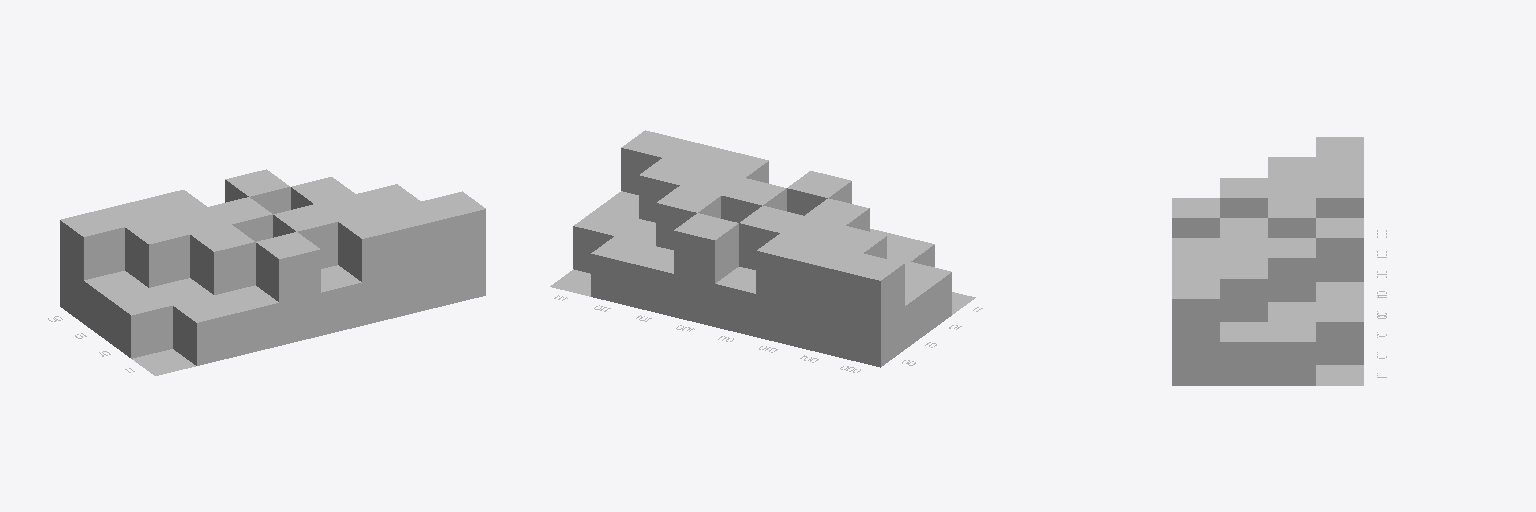
3 views of the same model, side by side, from view 1: azimuth 30°, elevation 25°; view 2: azimuth 150°, elevation 25°; view 3: azimuth 270°, elevation 25° (orthographic).
Visible parts, largest first — view 1: Object(6,4)[length_2], Object(4,4)[length_2], Object(1,1)[length_2], Object(8,4)[length_2], Object(7,4)[length_2], Object(1,3)[length_1], Object(3,3)[length_2], Object(2,2)[length_2], Object(2,4)[length_1], Object(3,4)[length_1], Object(5,4)[length_1], Object(5,3)[length_2] (+11 smaller); view 2: Object(1,1)[length_2], Object(5,1)[length_2], Object(3,1)[length_2], Object(2,1)[length_2], Object(7,1)[length_1], Object(6,1)[length_1], Object(4,1)[length_1], Object(6,2)[length_2], Object(8,2)[length_1], Object(8,4)[length_2], Object(4,2)[length_2], Object(7,3)[length_2] (+14 smaller); view 3: Object(8,4)[length_2], Object(5,1)[length_2], Object(6,2)[length_2], Object(7,3)[length_2], Object(8,2)[length_1], Object(8,3)[length_1], Object(7,1)[length_1], Object(3,1)[length_2], Object(3,3)[length_2], Object(4,2)[length_2], Object(4,4)[length_2], Object(2,1)[length_2] (+10 smaller).
Boxes of the visible parts, box(x1,y1,x2,y2) form: Object(6,4)[length_2]: box(338, 212, 403, 325); Object(4,4)[length_2]: box(256, 232, 320, 345); Object(1,1)[length_2]: box(60, 210, 124, 323); Object(8,4)[length_2]: box(421, 191, 485, 305); Object(7,4)[length_2]: box(380, 202, 444, 315); Object(1,3)[length_1]: box(107, 288, 172, 358); Object(3,3)[length_2]: box(190, 224, 255, 294); Object(2,2)[length_2]: box(125, 217, 189, 287); Object(2,4)[length_1]: box(173, 296, 237, 365); Object(3,4)[length_1]: box(214, 285, 278, 355); Object(5,4)[length_1]: box(321, 265, 361, 335); Object(5,3)[length_2]: box(273, 204, 337, 268); Object(1,1)[length_2]: box(839, 253, 904, 367); Object(5,1)[length_2]: box(674, 213, 738, 326); Object(3,1)[length_2]: box(756, 233, 821, 346); Object(2,1)[length_2]: box(798, 243, 862, 356); Object(7,1)[length_1]: box(591, 236, 655, 306); Object(6,1)[length_1]: box(632, 246, 673, 316); Object(4,1)[length_1]: box(715, 267, 755, 336); Object(6,2)[length_2]: box(656, 185, 720, 249); Object(8,2)[length_1]: box(573, 209, 637, 273); Object(8,4)[length_2]: box(621, 130, 685, 194); Object(4,2)[length_2]: box(739, 206, 802, 269); Object(7,3)[length_2]: box(639, 158, 702, 222); Object(8,4)[length_2]: box(1172, 279, 1219, 385); Object(5,1)[length_2]: box(1316, 218, 1363, 281); Object(6,2)[length_2]: box(1268, 238, 1315, 301); Object(7,3)[length_2]: box(1220, 258, 1267, 321); Object(8,2)[length_1]: box(1268, 322, 1315, 385); Object(8,3)[length_1]: box(1220, 322, 1267, 385); Object(7,1)[length_1]: box(1316, 302, 1363, 364); Object(3,1)[length_2]: box(1316, 178, 1363, 217); Object(3,3)[length_2]: box(1220, 178, 1267, 217); Object(4,2)[length_2]: box(1268, 198, 1315, 237); Object(4,4)[length_2]: box(1172, 198, 1219, 237); Object(2,1)[length_2]: box(1316, 157, 1363, 177).
Size of the model in its own units: 8.54 by 2 by 4.5.